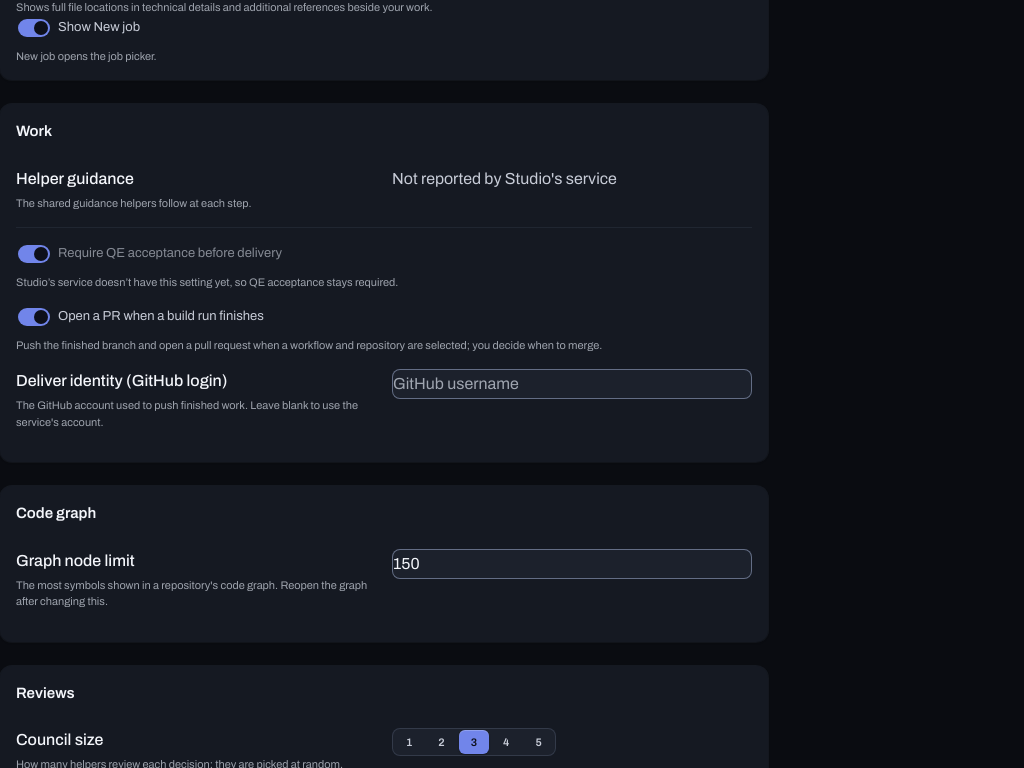
Test case: SystemSettings — deliver identity › saves through PUT /settings
(page scrolled)
Type "release-bot" into the field named "Deliver identity (GitHub login)" at (572, 384), box [392,369,752,399]
(page scrolled)
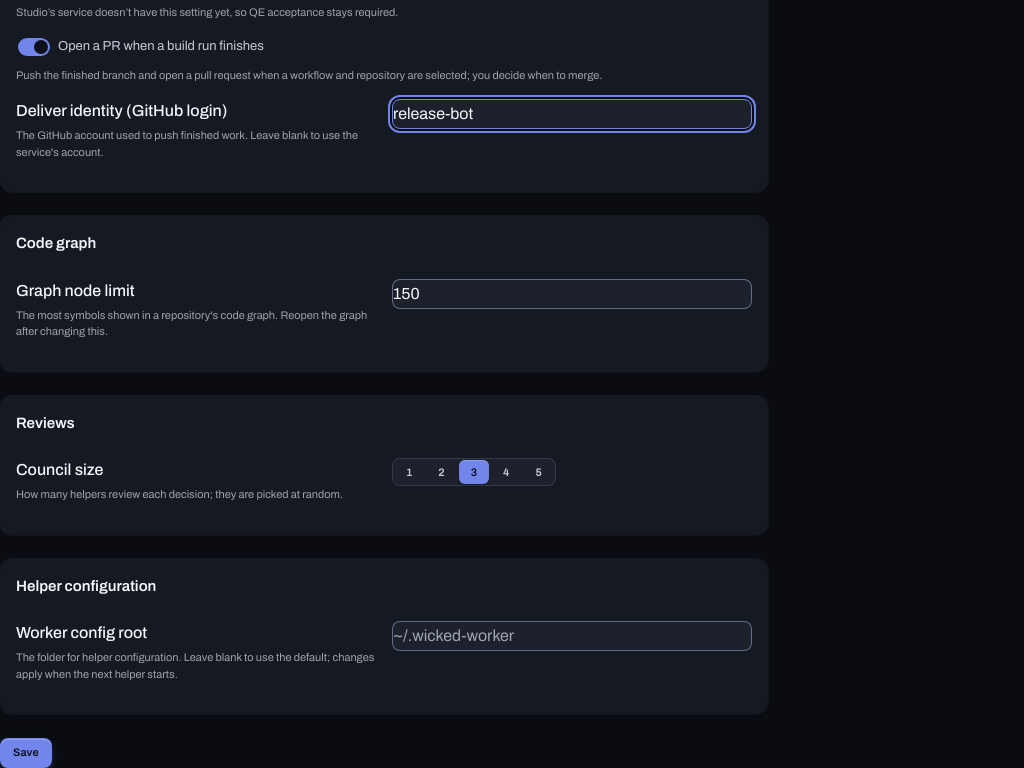
Click the button "Save" at (26, 753), box [0,738,52,767]
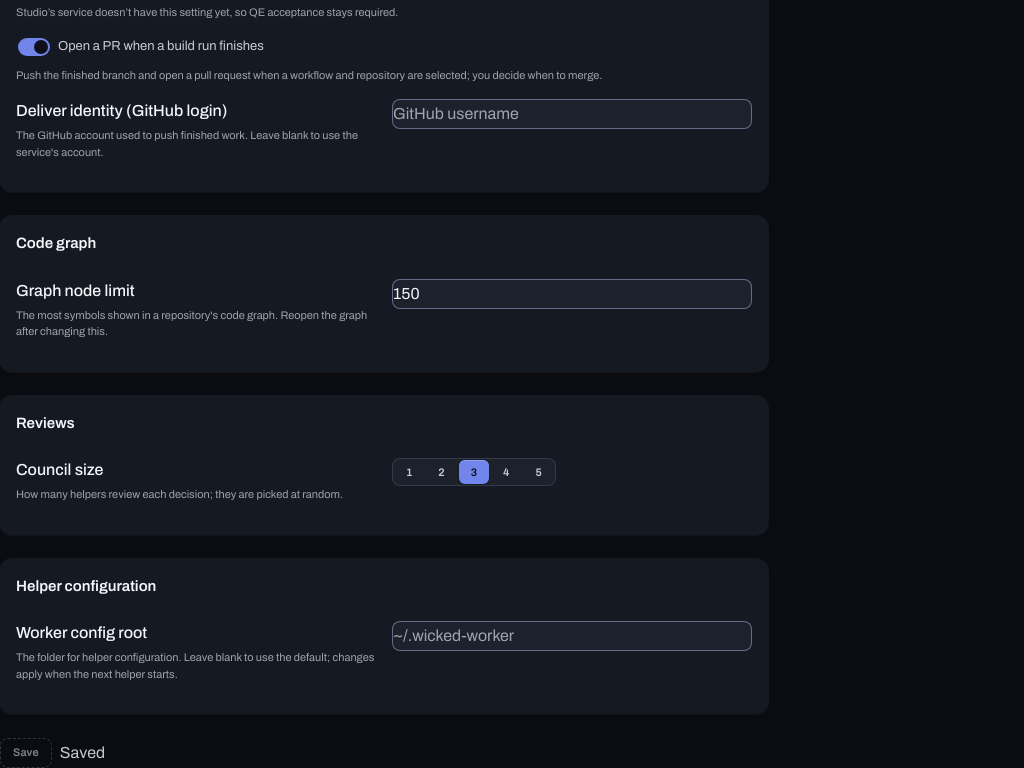
Expected: the text "Saved" is shown, [60,741,105,765]
